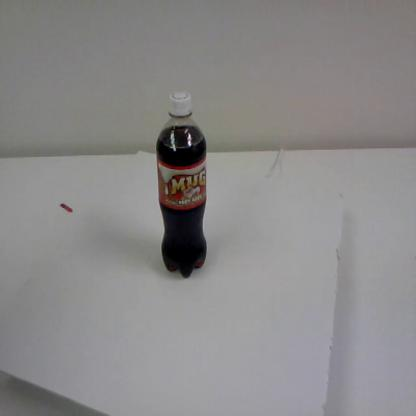bottle: (156, 89, 210, 283)
